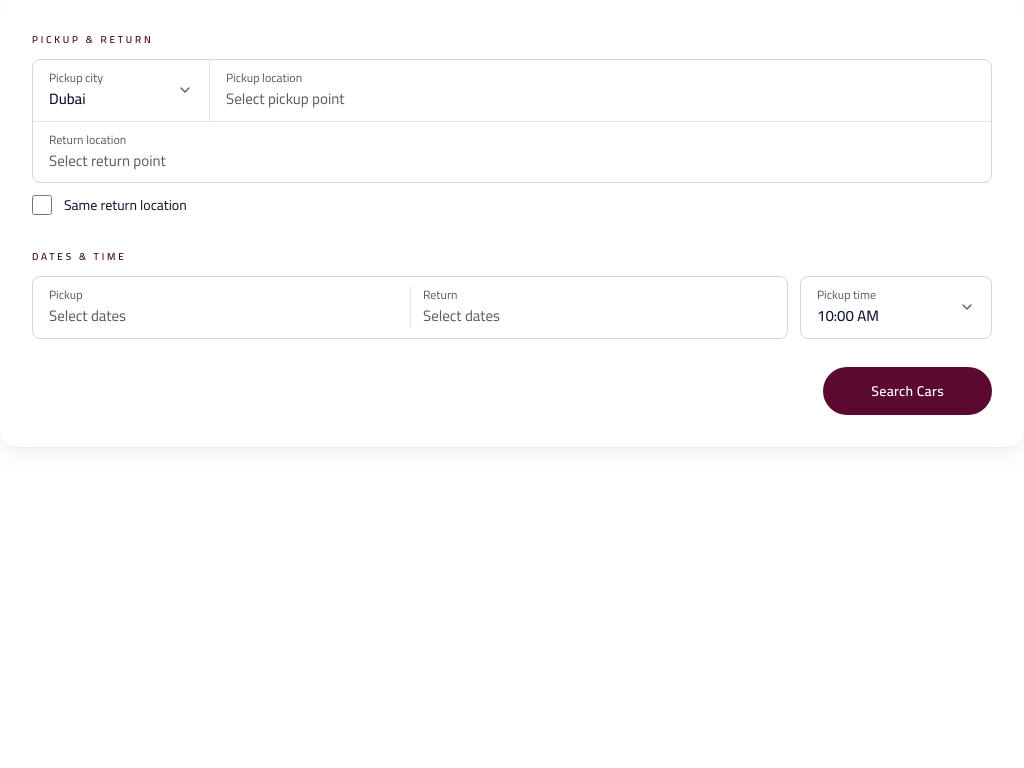
Test: SearchWidget › layout="card" (BookCarPage) › renders the same fields, sectioned, and still finds a real location
This screenshot has width=1024, height=768.
Expected: the text "Pickup & return" is shown, [32,30,154,49]
Expected: the text "Dates & time" is shown, [32,247,126,266]
Click the button "Pickup location Select pickup point" at (264, 78), box [210,60,991,120]
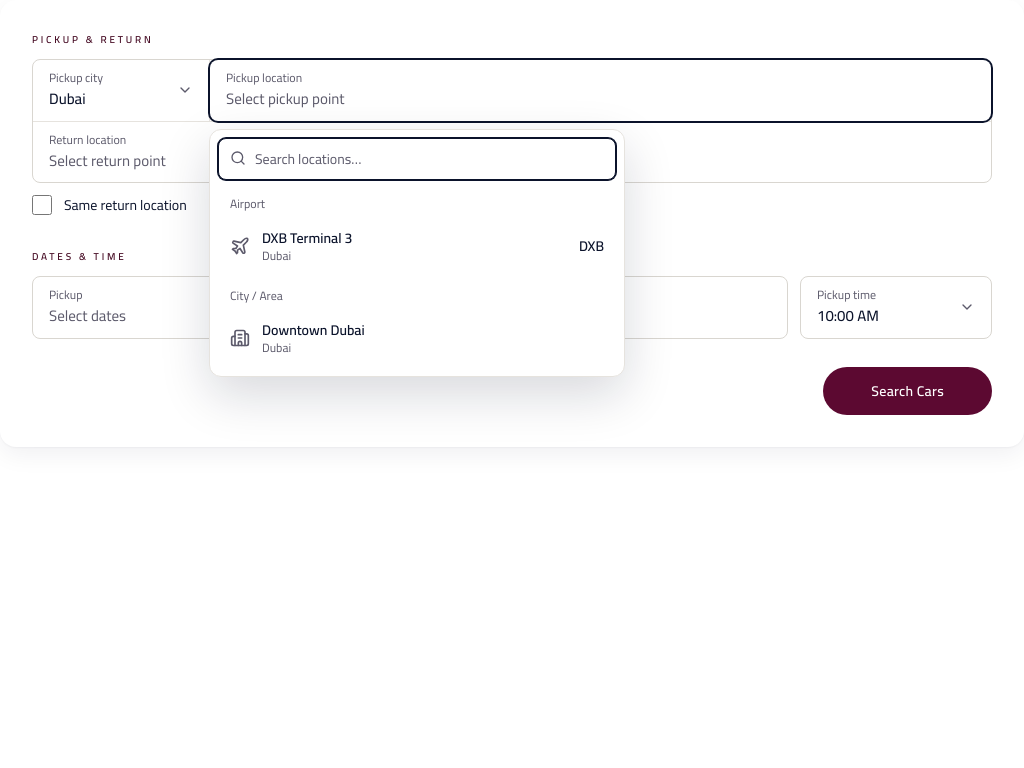
Expected: the button "DXB Terminal 3 Dubai DXB" is shown, [218,218,616,274]
